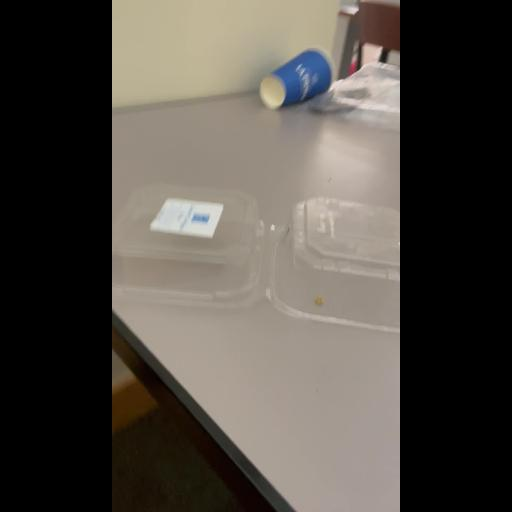lp_paper_cup: (258, 42, 334, 110)
small_plastic_container: (112, 178, 400, 334)
